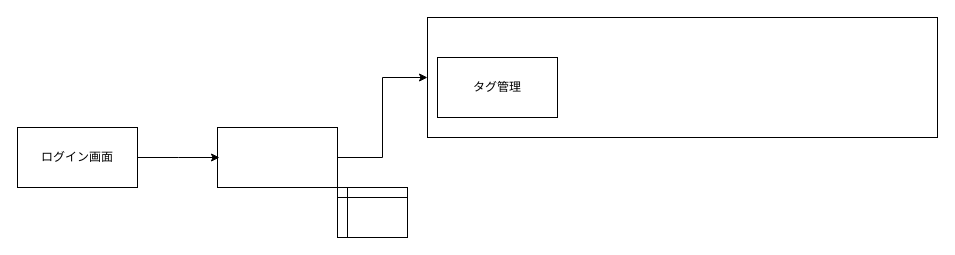
The diagram is 955 pixels wide and 255 high, and some of its shapes have lost their labels. The box of each missing label's shape, as (x1, y1, x2, y2) in pixels:
タスクバー: (426, 16, 938, 138)
トップ （ログイン状態）: (216, 126, 338, 188)
